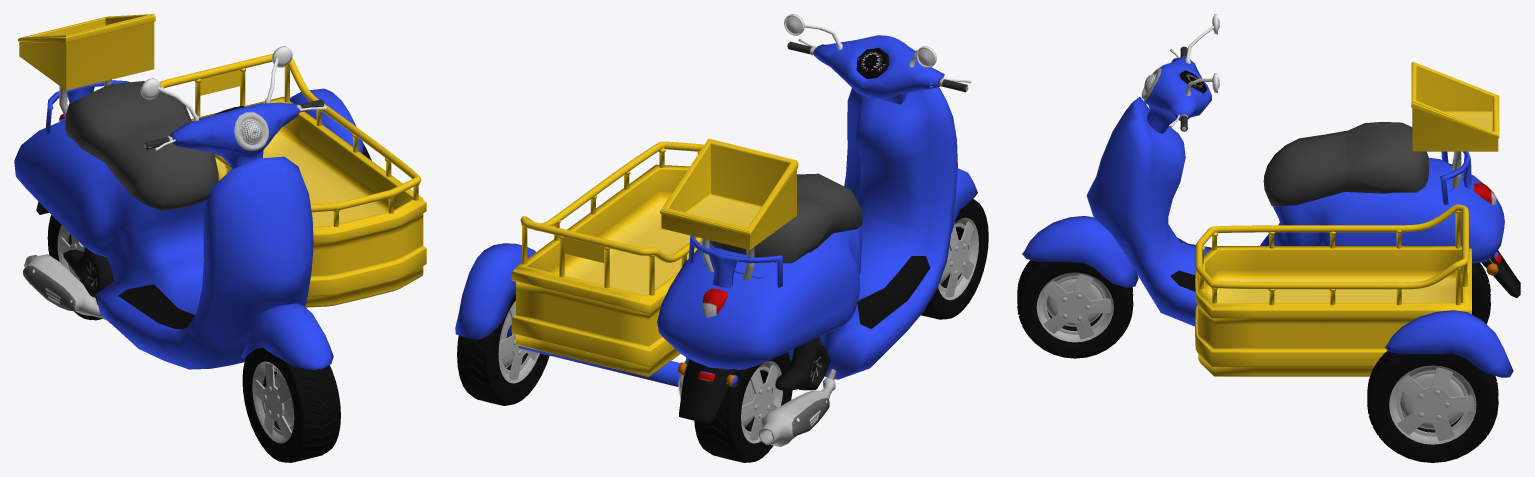
File: player-motorcycle-with-sidecar.fbx
3 renders of one model, left to right at view 1: azimuth 30°, elevation 25°; view 2: azimuth 150°, elevation 25°; view 3: azimuth 270°, elevation 25°, orthographic. The views are drawn at different scales.
Parts seen in each view (by area): view 1: player-motorcycle-with-sidecar, player-motorcycle-with-sidecar-front-wheel, player-motorcycle-with-sidecar-rear-wheel; view 2: player-motorcycle-with-sidecar, player-motorcycle-with-sidecar-rear-wheel, player-motorcycle-sidecar-wheel, player-motorcycle-with-sidecar-front-wheel; view 3: player-motorcycle-with-sidecar, player-motorcycle-sidecar-wheel, player-motorcycle-with-sidecar-front-wheel, player-motorcycle-with-sidecar-rear-wheel.
Boxes of the visible parts, x1,y1,x2,y2 form: player-motorcycle-with-sidecar: [14, 14, 426, 369]; player-motorcycle-with-sidecar-front-wheel: [242, 347, 340, 462]; player-motorcycle-with-sidecar-rear-wheel: [47, 215, 102, 320]; player-motorcycle-with-sidecar: [455, 14, 977, 446]; player-motorcycle-with-sidecar-rear-wheel: [694, 352, 792, 462]; player-motorcycle-sidecar-wheel: [457, 294, 549, 405]; player-motorcycle-with-sidecar-front-wheel: [921, 199, 988, 319]; player-motorcycle-with-sidecar: [1022, 14, 1520, 377]; player-motorcycle-sidecar-wheel: [1367, 350, 1498, 462]; player-motorcycle-with-sidecar-front-wheel: [1017, 260, 1133, 358]; player-motorcycle-with-sidecar-rear-wheel: [1472, 262, 1490, 324].
Size of the model in its own units: 2.31 by 2.17 by 3.2.
